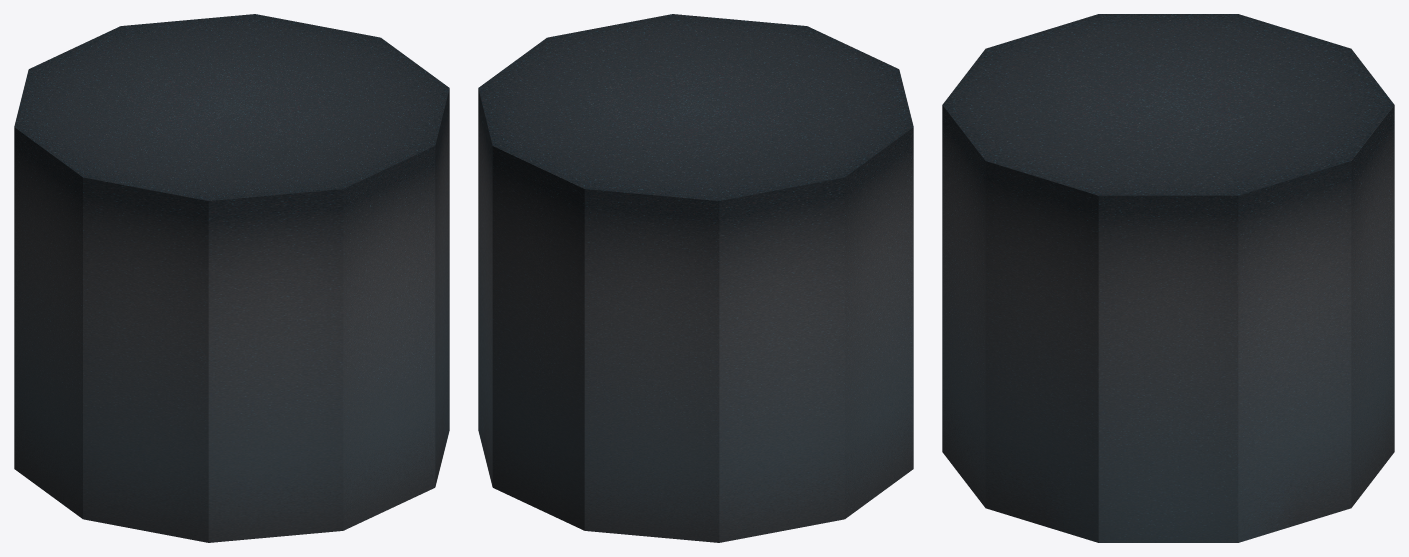
Rendered from Room.obj.
3 renders of one model, left to right at view 1: azimuth 30°, elevation 25°; view 2: azimuth 150°, elevation 25°; view 3: azimuth 270°, elevation 25°, orthographic.
Visible parts, largest first — view 1: Cylinder_Cylinder.003; view 2: Cylinder_Cylinder.003; view 3: Cylinder_Cylinder.003.
Part boxes in pixels (box(x1,y1,x2,y2)): Cylinder_Cylinder.003: box(14, 14, 449, 542); Cylinder_Cylinder.003: box(478, 14, 913, 542); Cylinder_Cylinder.003: box(942, 14, 1394, 542).
Bounding box in the file's own units: 1.68 × 1.5 × 1.77.
4 materials, 4 textured.
